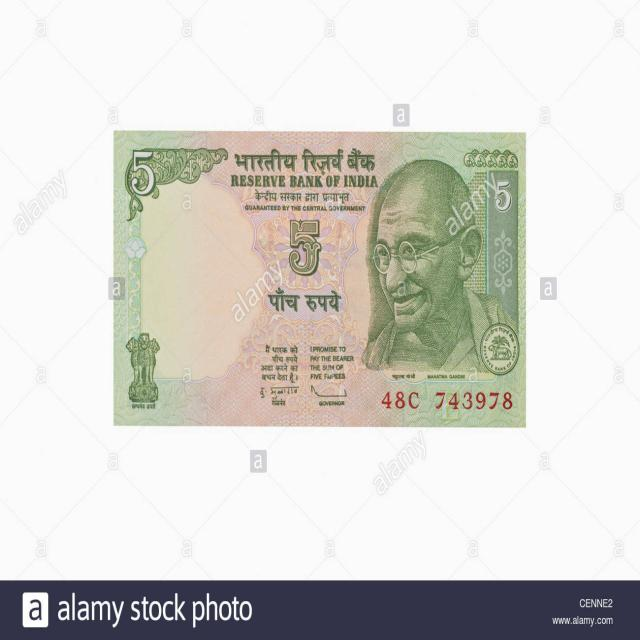5IndianRupees: (117, 136, 528, 427)
